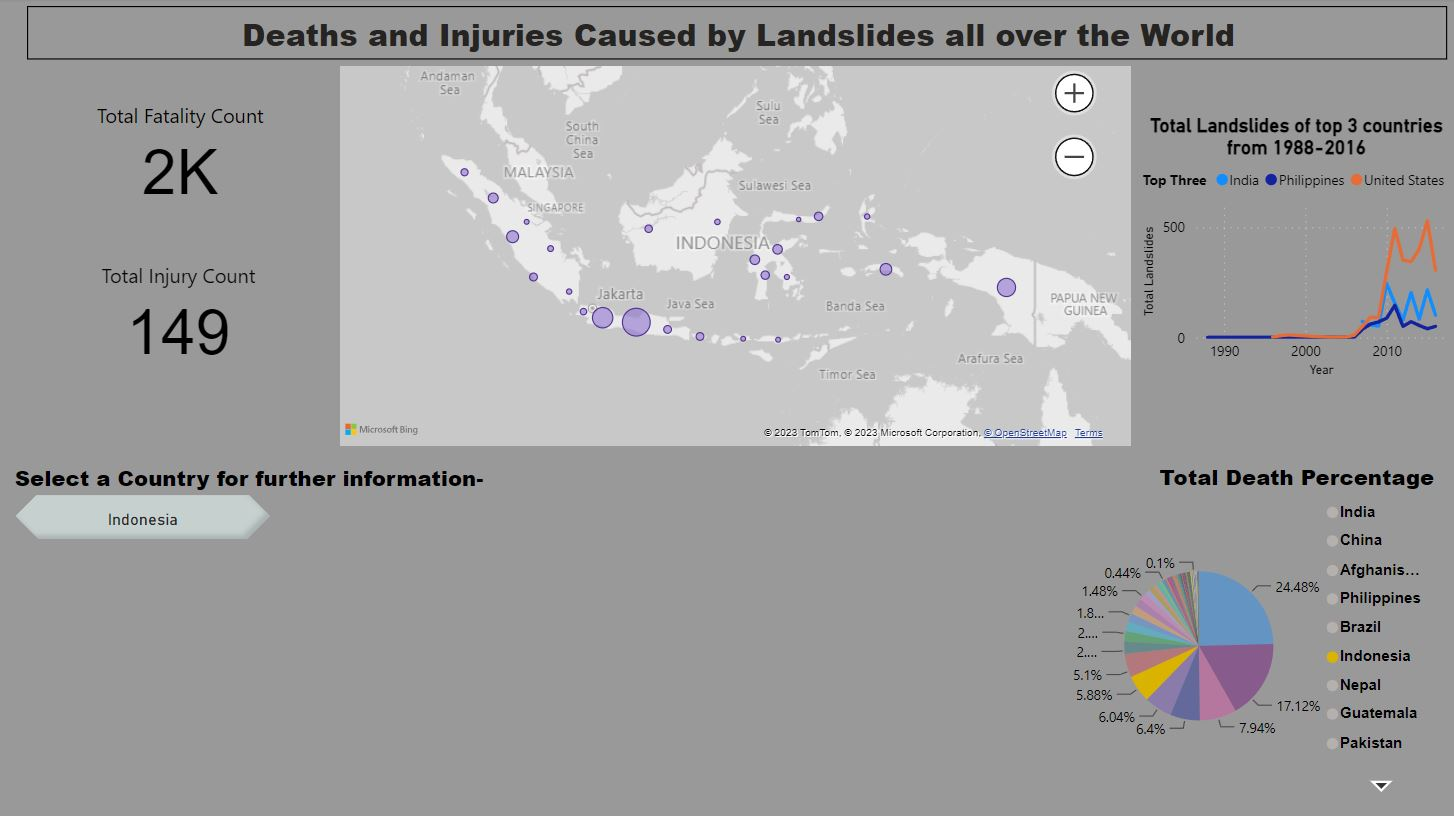

This screenshot's page, from the dashboard's own definition file:
{"tool":"powerbi","page":{"name":"Global Landslide","canvas":[1280,720],"ordinal":0},"visuals":[{"type":"map","fields":{"Category":["Global_Landslide_Catalog_Export.admin_division_name"],"Size":["Sum(Global_Landslide_Catalog_Export.fatality_count)"]},"box":[295,54.4,705.1,344.2],"z":0},{"type":"cardVisual","fields":{"Data":["Sum(Global_Landslide_Catalog_Export.fatality_count)"]},"box":[25.6,57.2,269.2,162.7],"z":1000},{"type":"cardVisual","fields":{"Data":["Sum(Global_Landslide_Catalog_Export.injury_count)"]},"box":[21.7,197.2,273.2,162.7],"z":2000},{"type":"pieChart","title":"Total Death Percentage","fields":{"Y":["Sum(Global_Landslide_Catalog_Export.fatality_count)"],"Category":["Global_Landslide_Catalog_Export.country_name"]},"box":[938.6,406.5,327.5,297.7],"z":3000},{"type":"advancedSlicerVisual","title":"Select a Country for further information-","fields":{"Values":["Global_Landslide_Catalog_Export.country_name"]},"box":[9.9,407.3,928.9,297.8],"z":4000},{"type":"textbox","box":[25.6,6.9,1247.5,47.3],"z":5000},{"type":"lineChart","title":"Total Landslides of top 3 countries from 1988-2016","fields":{"Category":["Global_Landslide_Catalog_Export.event_date.Variation.Date Hierarchy.Year"],"Y":["CountNonNull(Global_Landslide_Catalog_Export.event_id)"],"Series":["Global_Landslide_Catalog_Export.country_name"]},"box":[1000.1,101.9,280.1,235.3],"z":6000}]}

Visuals, with their boxes in screenshot pixels (x1, y1, x2, y2), scaled from the page's 1280x720 canvas onto the 1454x816 screenshot:
map - Global_Landslide_Catalog_Export.admin_division_name x Sum(Global_Landslide_Catalog_Export.fatality_count): Rect(335, 62, 1136, 452)
cardVisual - Sum(Global_Landslide_Catalog_Export.fatality_count): Rect(29, 65, 335, 249)
cardVisual - Sum(Global_Landslide_Catalog_Export.injury_count): Rect(25, 223, 335, 408)
"Total Death Percentage" pieChart: Rect(1066, 461, 1438, 798)
"Select a Country for further information-" advancedSlicerVisual: Rect(11, 462, 1066, 799)
textbox: Rect(29, 8, 1446, 61)
"Total Landslides of top 3 countries from 1988-2016" lineChart: Rect(1136, 115, 1453, 382)
